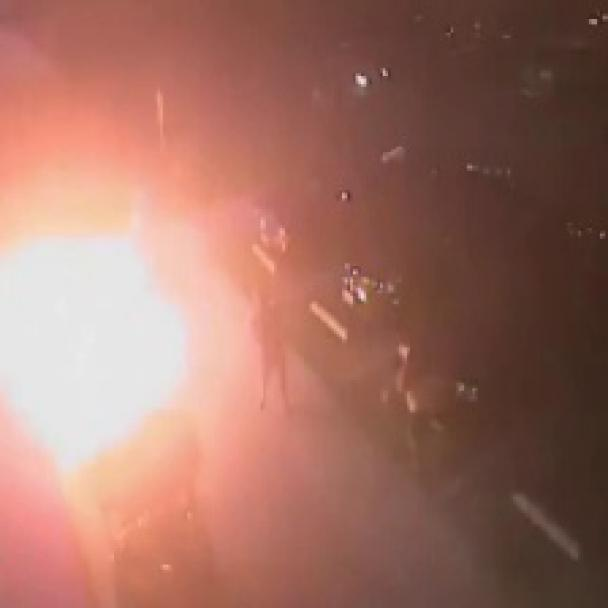Fire: (0, 180, 199, 516)
